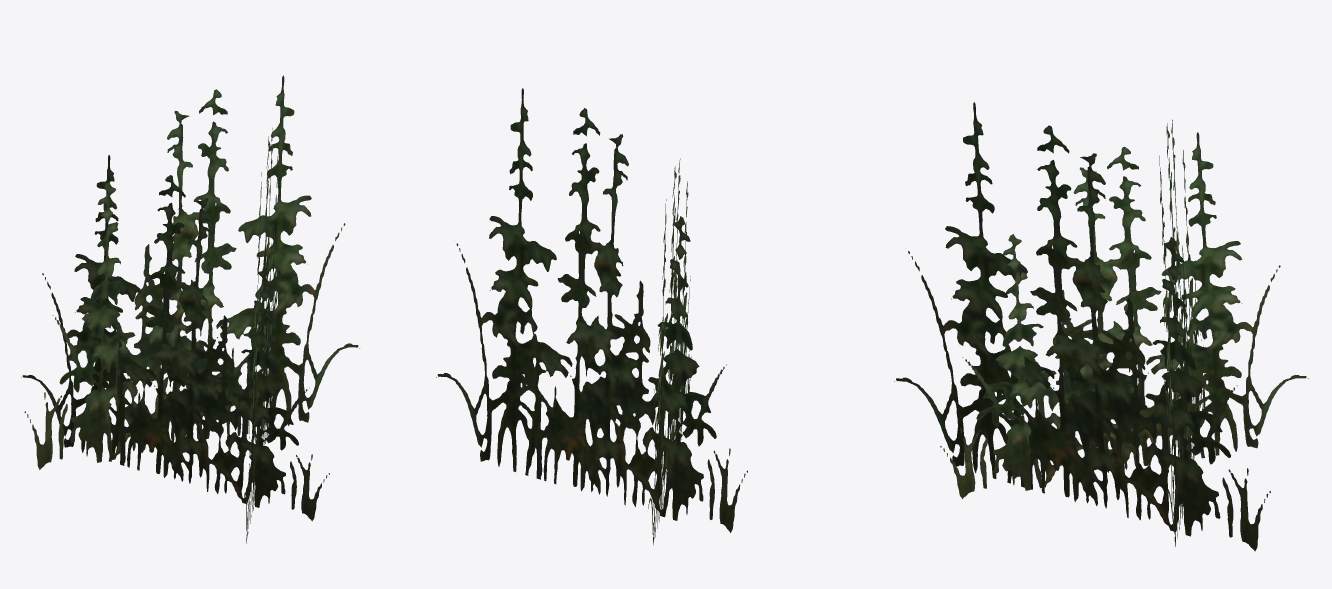
The model's file is wm_灌木小灌木11.fbx.
The picture shows the model from 3 angles, left to right: view 1: azimuth 30°, elevation 25°; view 2: azimuth 150°, elevation 25°; view 3: azimuth 270°, elevation 25°; orthographic projection. The views are drawn at different scales.
Visible parts, largest first — view 1: wm_灌木小灌木11; view 2: wm_灌木小灌木11; view 3: wm_灌木小灌木11.
Boxes of the visible parts, x1=… form: wm_灌木小灌木11: x1=21, y1=75, x2=359, y2=543; wm_灌木小灌木11: x1=436, y1=88, x2=747, y2=545; wm_灌木小灌木11: x1=894, y1=102, x2=1308, y2=551.
Size of the model in its own units: 147 by 161 by 164.
